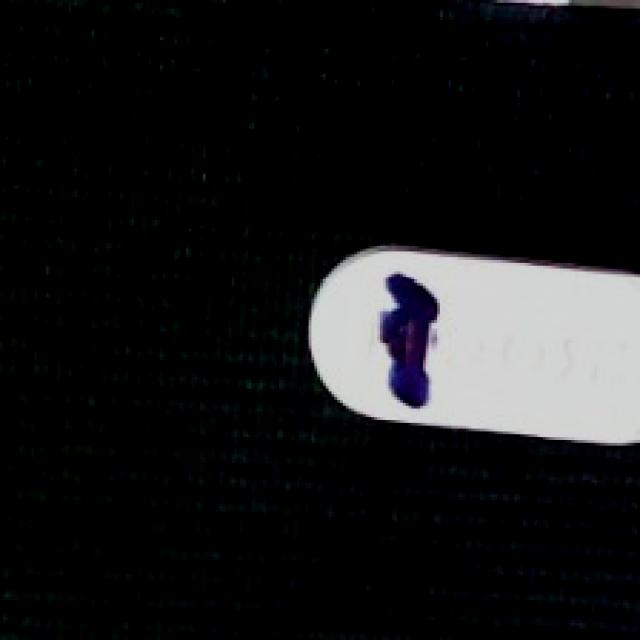defected: (303, 246, 640, 451)
